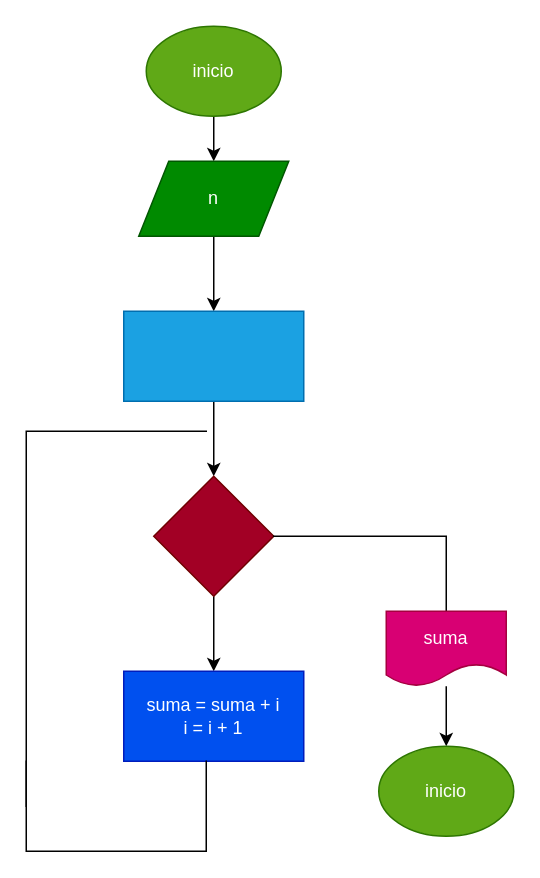
This 540x878 diagram has some shape labels left out. Each missing label, with the centre of its shape:
"i <= n" belongs at point 213,535.
"suma = 0 i = 1" belongs at point 213,355.
